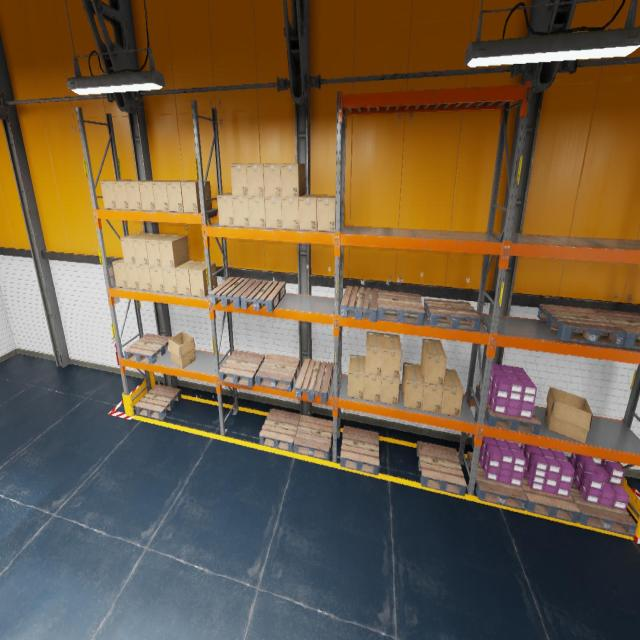box: (545, 387, 593, 443), (421, 338, 446, 386), (421, 365, 444, 413), (441, 368, 463, 416), (402, 363, 424, 410), (168, 331, 195, 369), (189, 261, 217, 297), (159, 235, 189, 268), (181, 181, 212, 212), (120, 232, 150, 264), (175, 260, 202, 295), (152, 180, 182, 211), (133, 233, 161, 266), (146, 234, 173, 267), (138, 180, 166, 210), (100, 180, 130, 208), (382, 334, 401, 378), (166, 180, 192, 212), (347, 354, 365, 400), (365, 331, 383, 376), (125, 180, 152, 210), (299, 194, 321, 230), (281, 164, 305, 196), (113, 180, 139, 209), (317, 195, 335, 231), (230, 163, 248, 196), (281, 198, 299, 230), (263, 164, 281, 196), (248, 196, 266, 228), (217, 192, 234, 225), (232, 196, 250, 227), (265, 196, 282, 228), (247, 164, 264, 196), (381, 376, 399, 406), (364, 374, 382, 402), (112, 258, 128, 287), (162, 268, 178, 294), (149, 266, 165, 292), (136, 265, 152, 290), (124, 264, 140, 289)
pallets: (569, 480, 637, 537), (537, 304, 626, 347), (466, 451, 528, 511), (475, 386, 541, 434), (522, 474, 580, 523), (416, 441, 466, 496), (340, 426, 379, 476), (592, 309, 640, 349), (424, 298, 481, 331), (259, 408, 300, 452), (293, 415, 333, 460), (256, 353, 300, 392), (295, 358, 333, 403), (218, 350, 264, 387), (377, 290, 425, 325), (135, 384, 181, 420), (240, 279, 286, 312), (209, 276, 256, 308), (124, 333, 171, 364), (341, 286, 378, 322)
